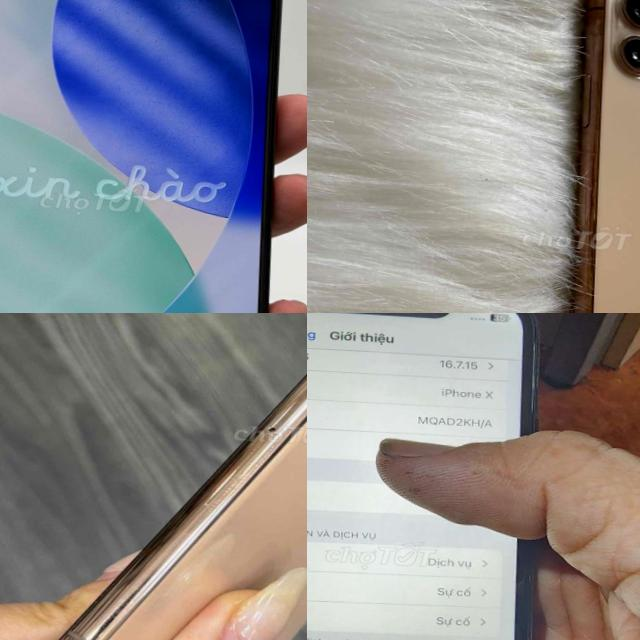scratch: (522, 336, 550, 422), (521, 554, 543, 640)
